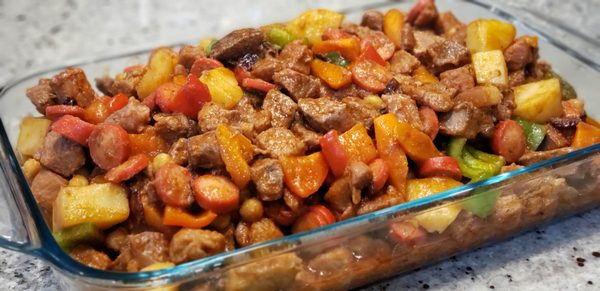salad: (63, 137, 600, 284)
sushi: (2, 2, 599, 284)
